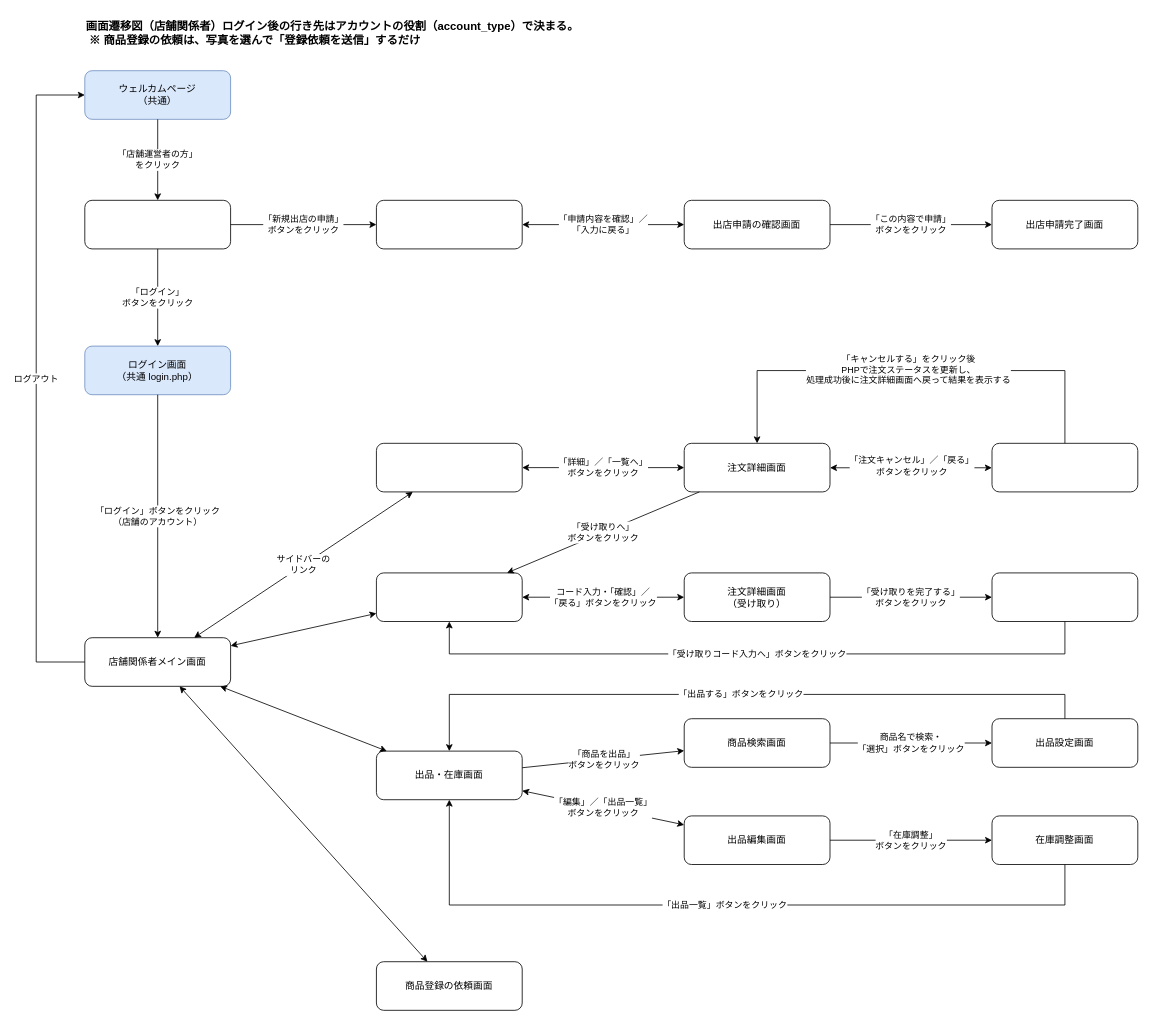
The diagram is 1152 pixels wide and 1025 high, and some of its shapes have lost their labels. The shapes that lost their labels are listed below. From the top down, each one's centre as x and y in pixels, then its label:
At point 157,224: "店舗運営者の入口画面 （新規出店・ログイン）".
At point 449,224: "新規出店申請画面".
At point 449,467: "注文管理画面".
At point 1064,467: "キャンセル確認ダイアログ".
At point 449,597: "受け取り画面".
At point 1064,597: "受け取り完了画面".
